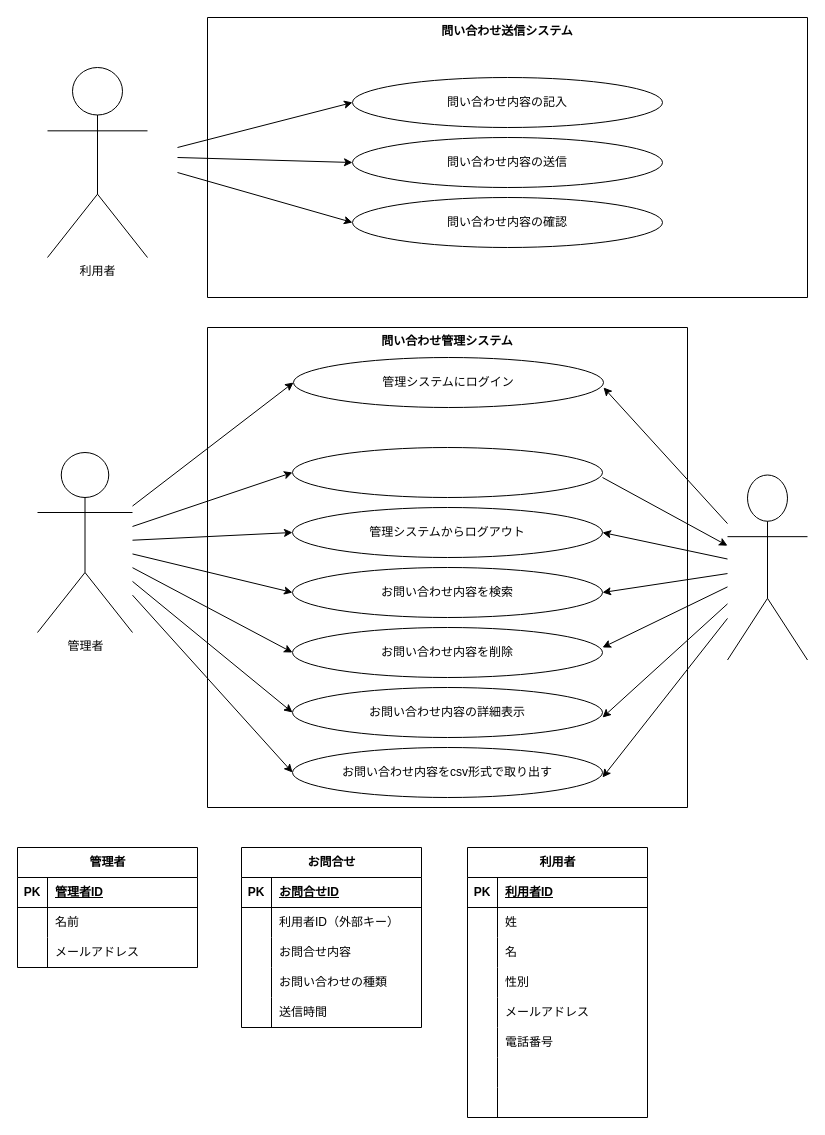
This 825x1135 diagram has some shape labels left out. Here are the shapes that lost their labels. From the top down, the centre of each, then its label:
point 447,472: 新規ユーザーの作成・登録
point 767,567: 新規管理者
